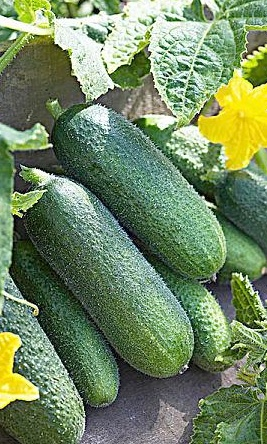cucumber: (24, 178, 185, 369), (63, 106, 224, 280)
cucumber_plant: (51, 2, 267, 103)
